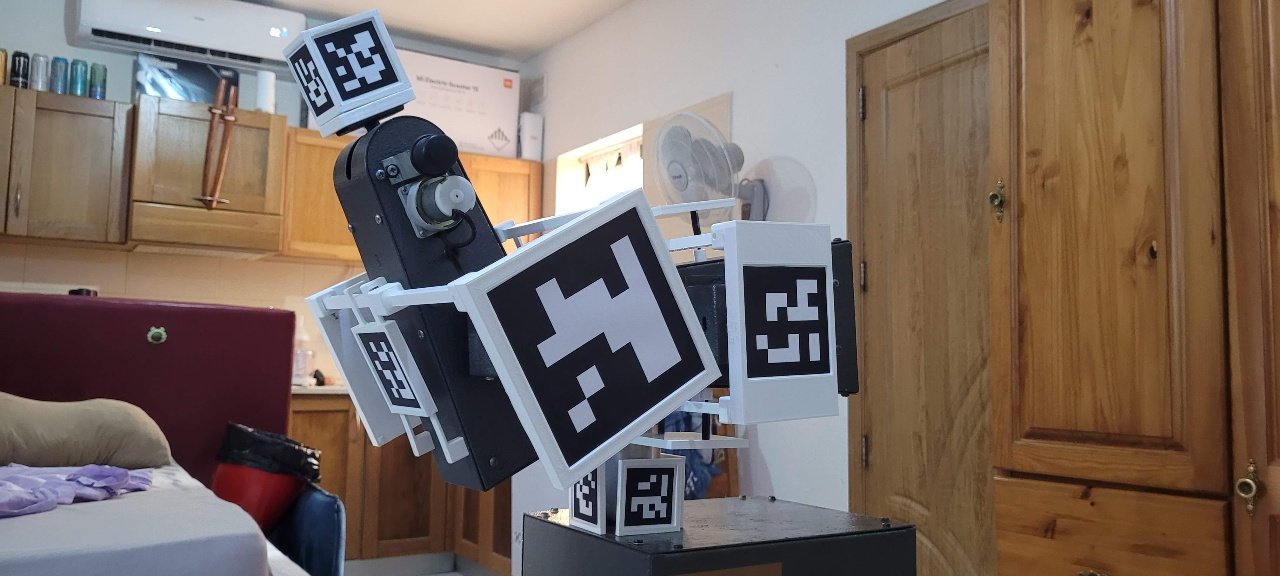Robot: (283, 7, 858, 535)
